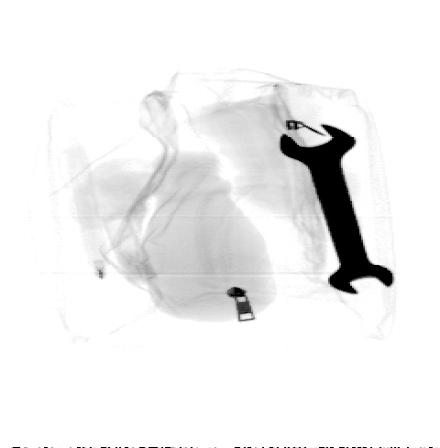Wrench: (276, 124, 397, 293)
